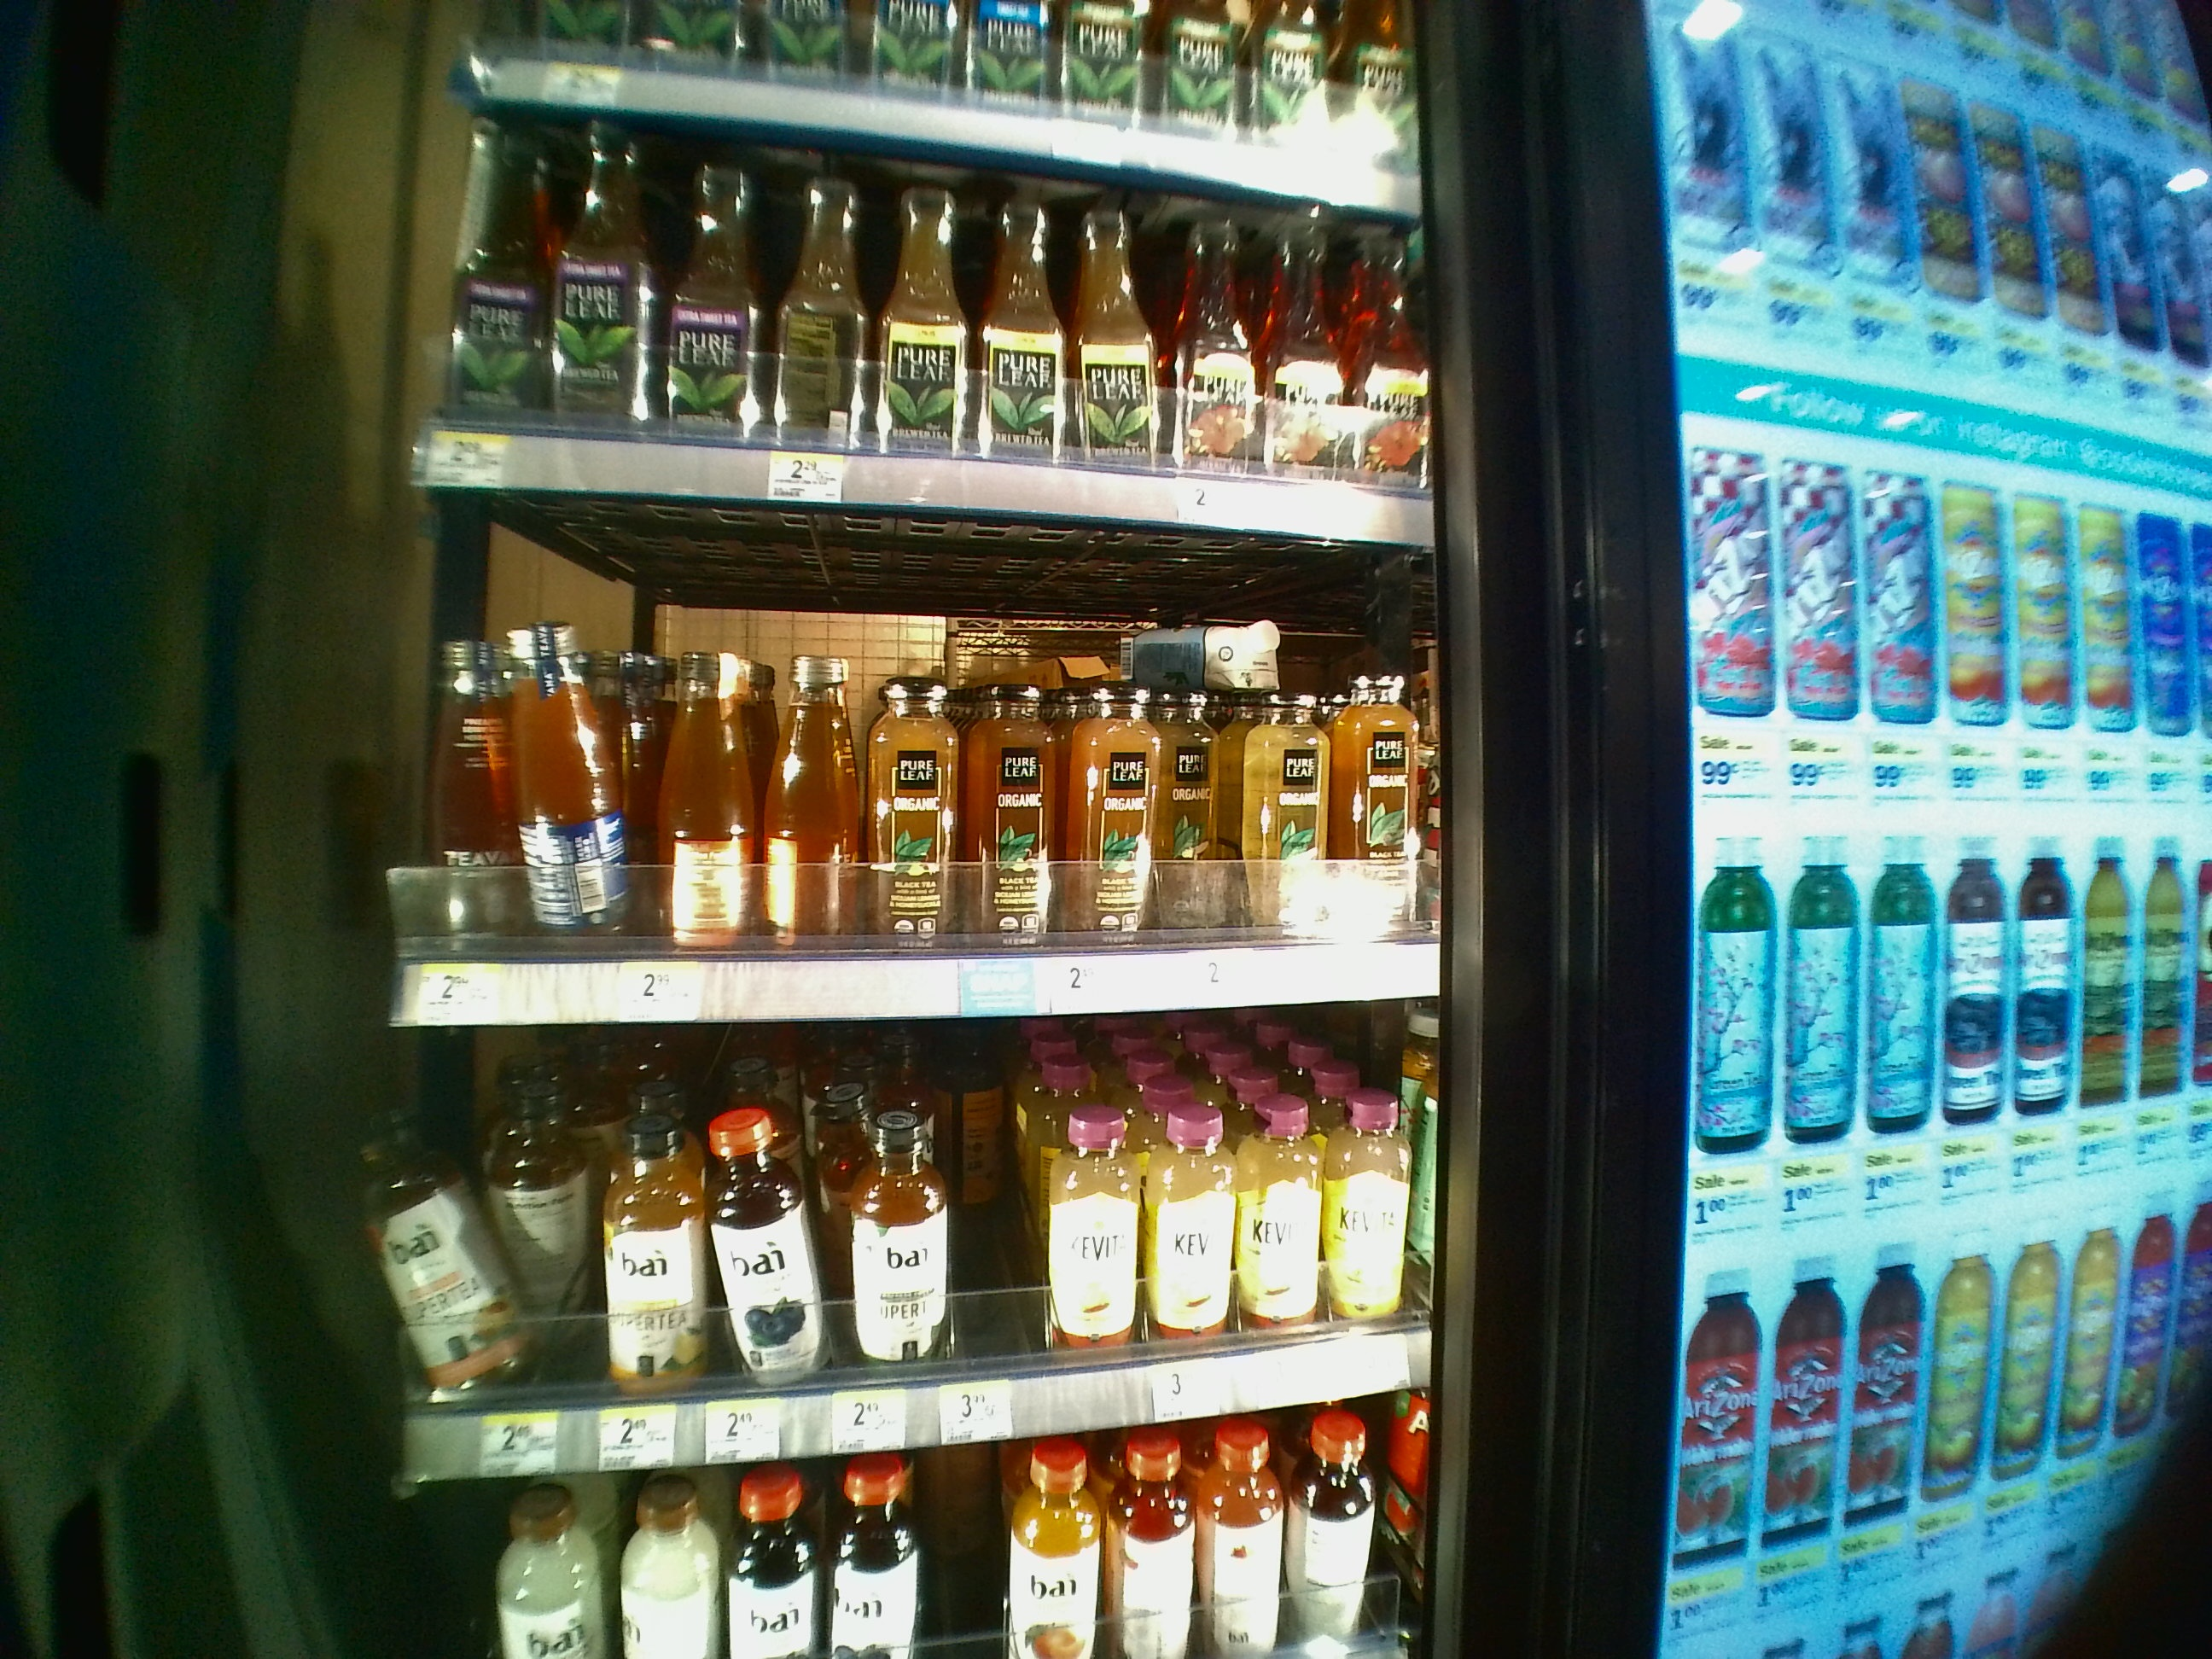shelf: (366, 551, 1435, 1028), (366, 61, 1428, 538), (364, 1042, 1453, 1480)
